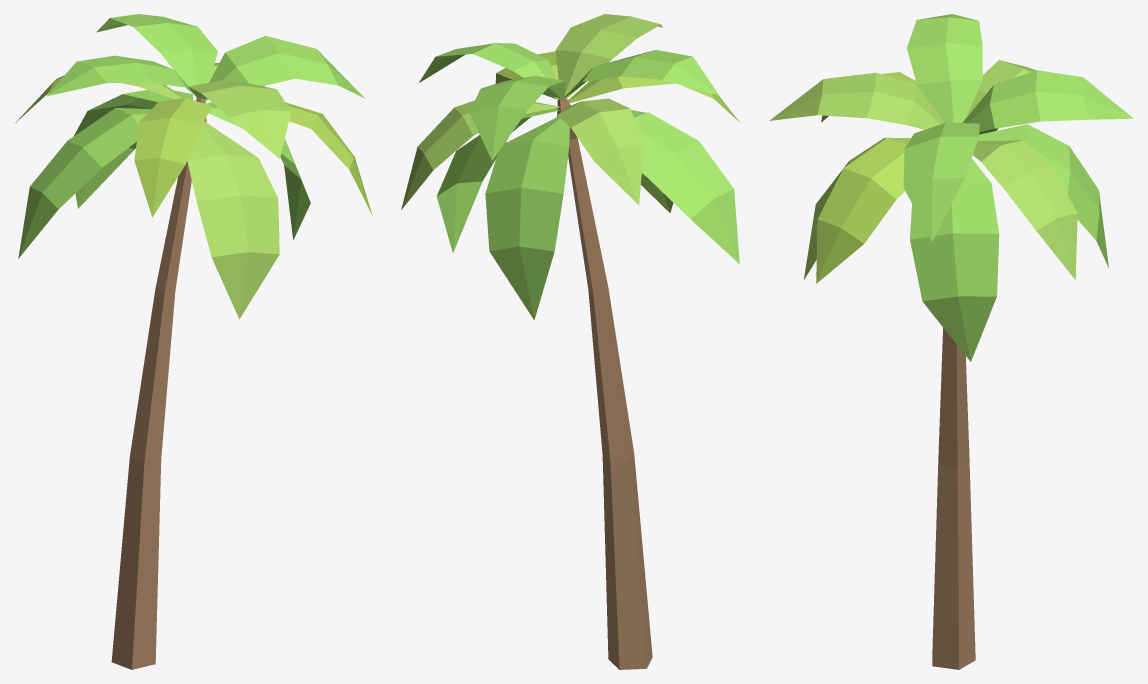
File: Palm_Tree_l_BT_02.fbx
3 renders of one model, left to right at view 1: azimuth 30°, elevation 25°; view 2: azimuth 150°, elevation 25°; view 3: azimuth 270°, elevation 25°, orthographic. The views are drawn at different scales.
Visible parts, largest first — view 1: Palm_Tree_l_BT_02; view 2: Palm_Tree_l_BT_02; view 3: Palm_Tree_l_BT_02.
Boxes of the visible parts, x1,y1,x2,y2 form: Palm_Tree_l_BT_02: (15, 14, 372, 669); Palm_Tree_l_BT_02: (401, 14, 739, 669); Palm_Tree_l_BT_02: (769, 14, 1133, 669).
Size of the model in its own units: 499 by 864 by 459.
